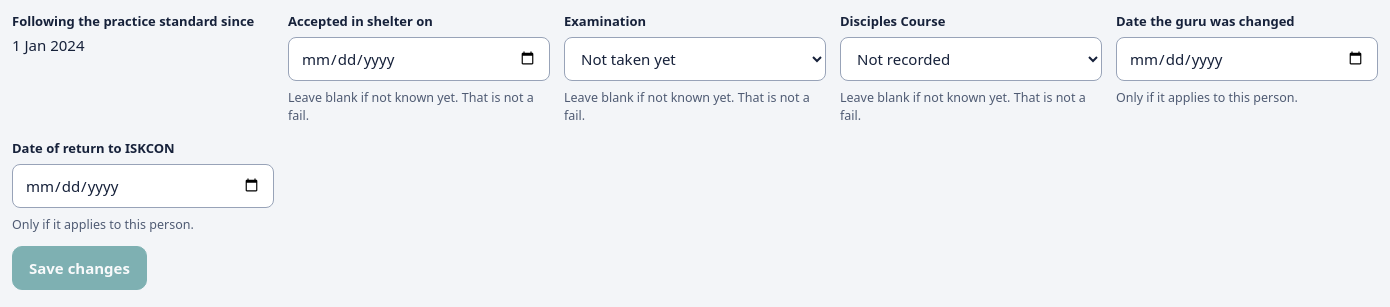
Test: FactsPanel › lets the committee edit the temple facts and enables save only after a change
The width and height of the screenshot is (1390, 307).
Check: the button "Save changes" is disabled, box [12,246,147,290]
Type "2025-06-01" into the date field labelled "Accepted in shelter on". click: (419, 59)
box: [288,37,550,81]
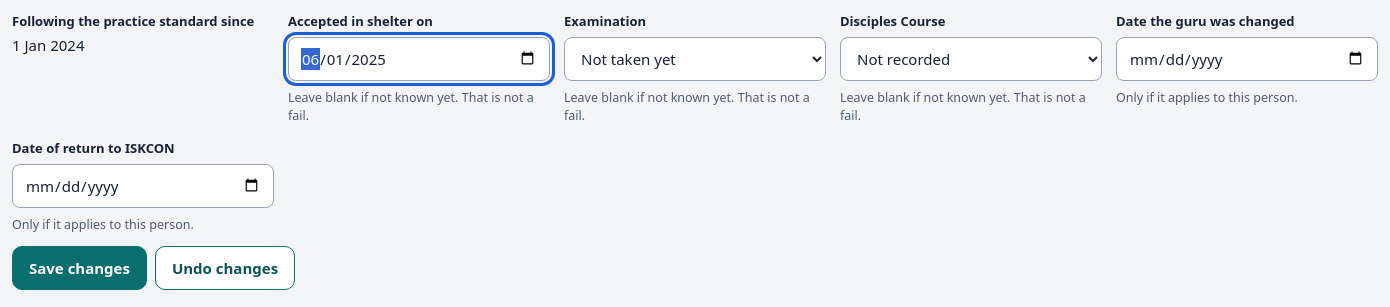
Check: the button "Save changes" is enabled, box [12,246,147,290]
